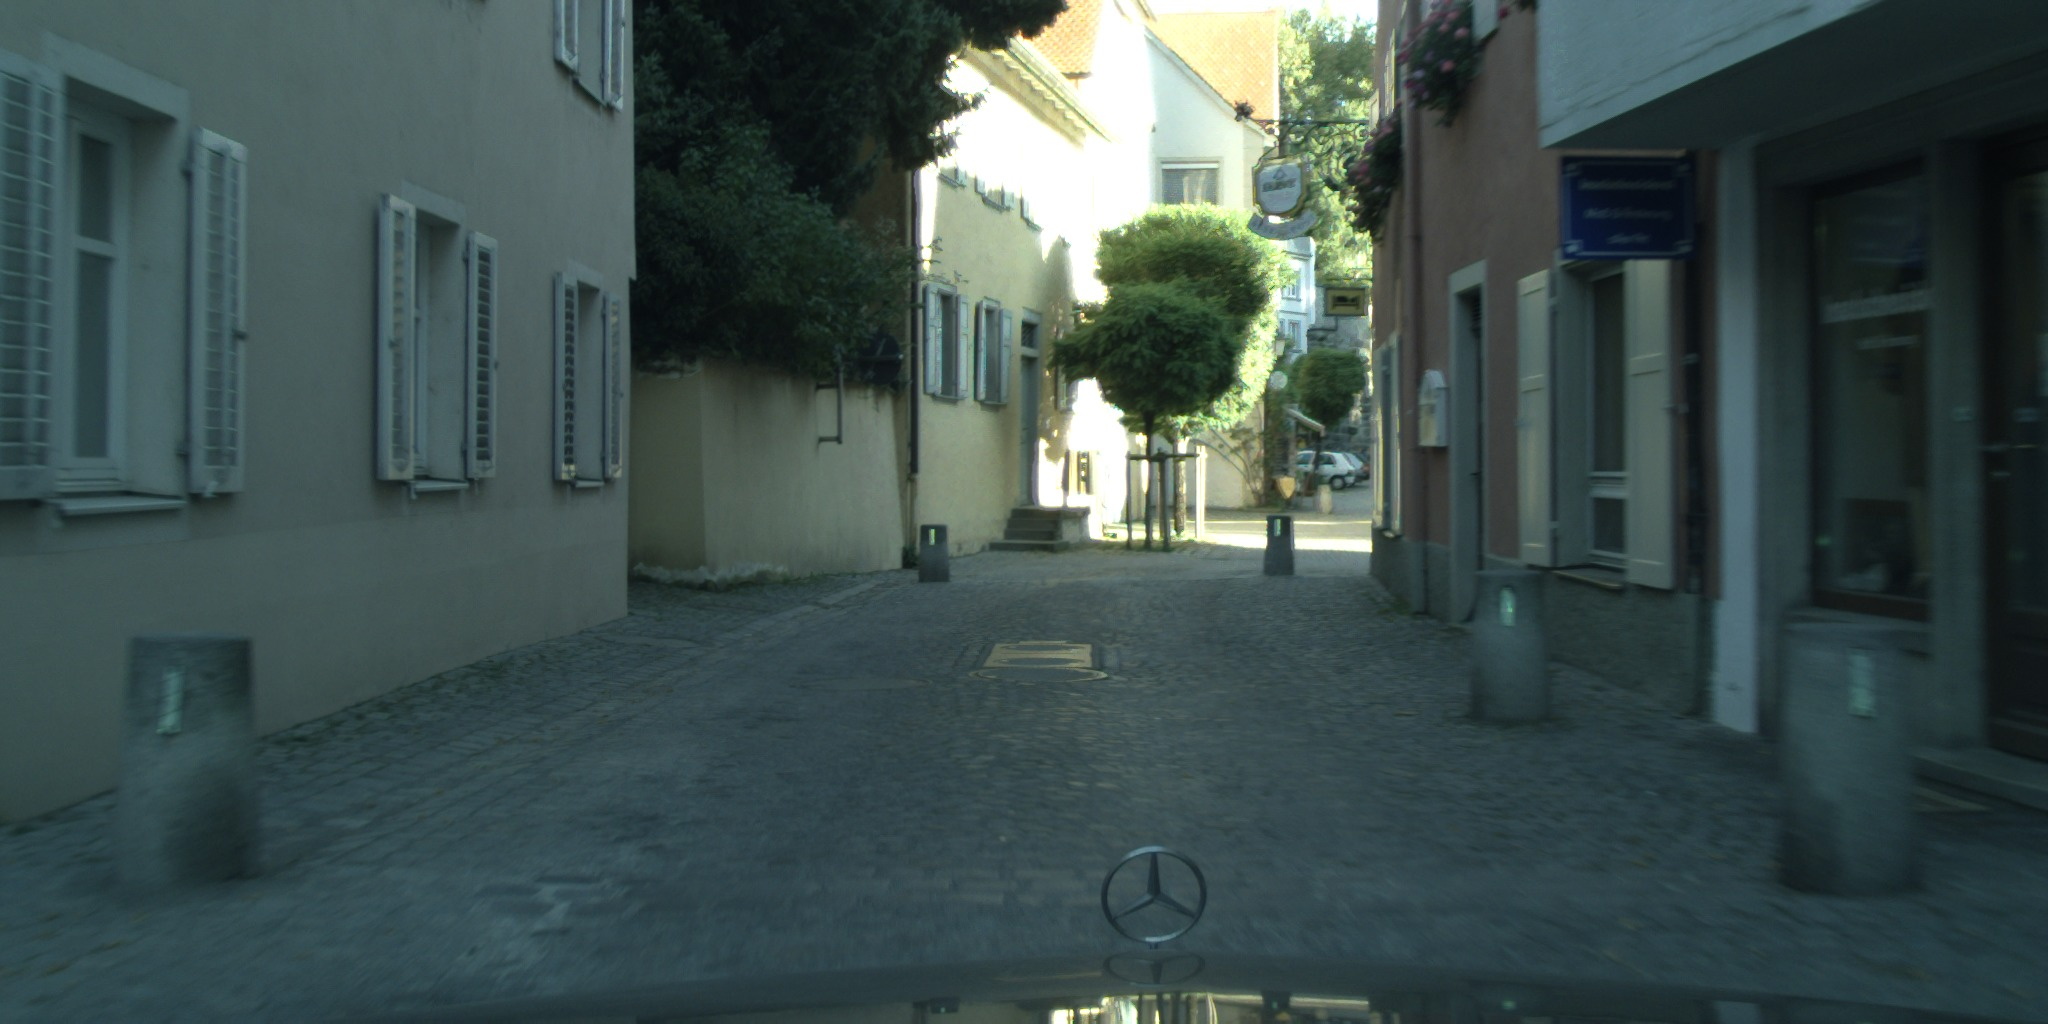car: (1294, 451, 1354, 490)
